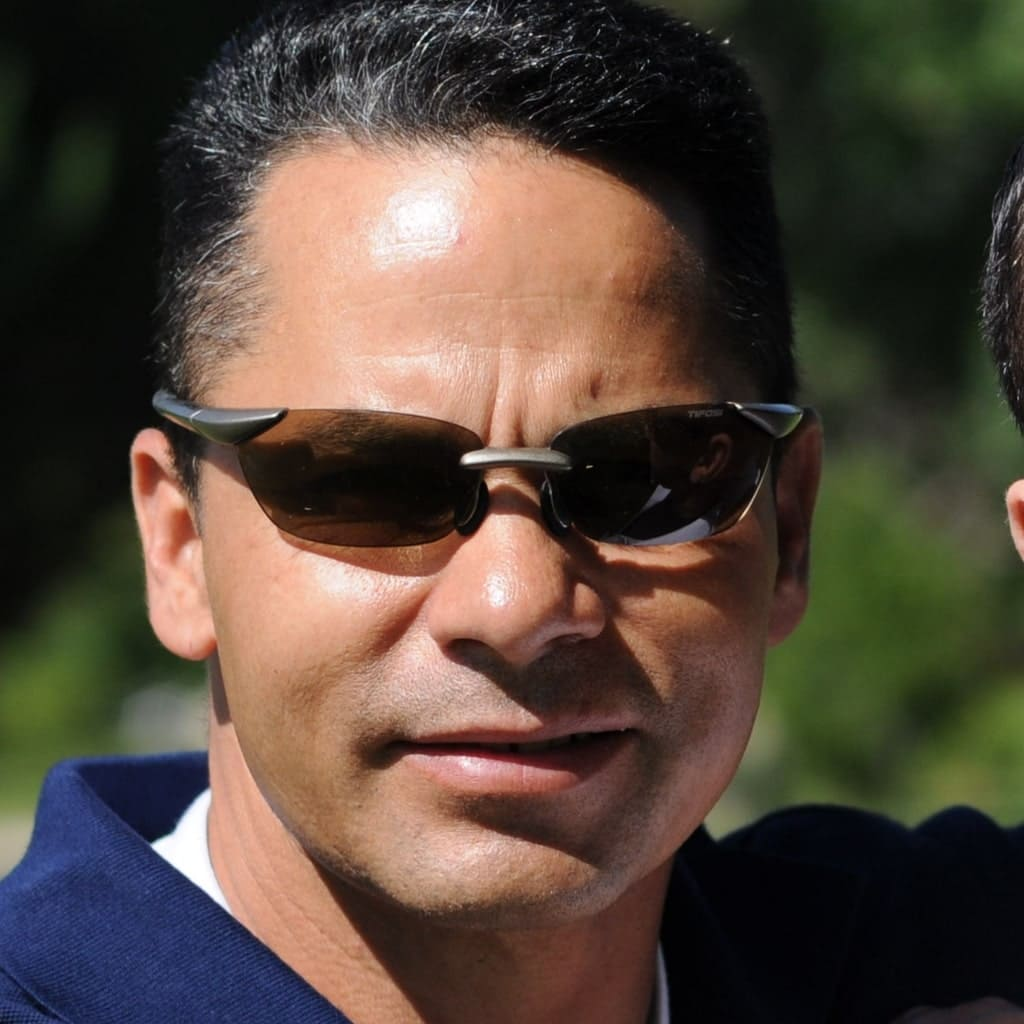without_mask: (213, 143, 764, 908)
